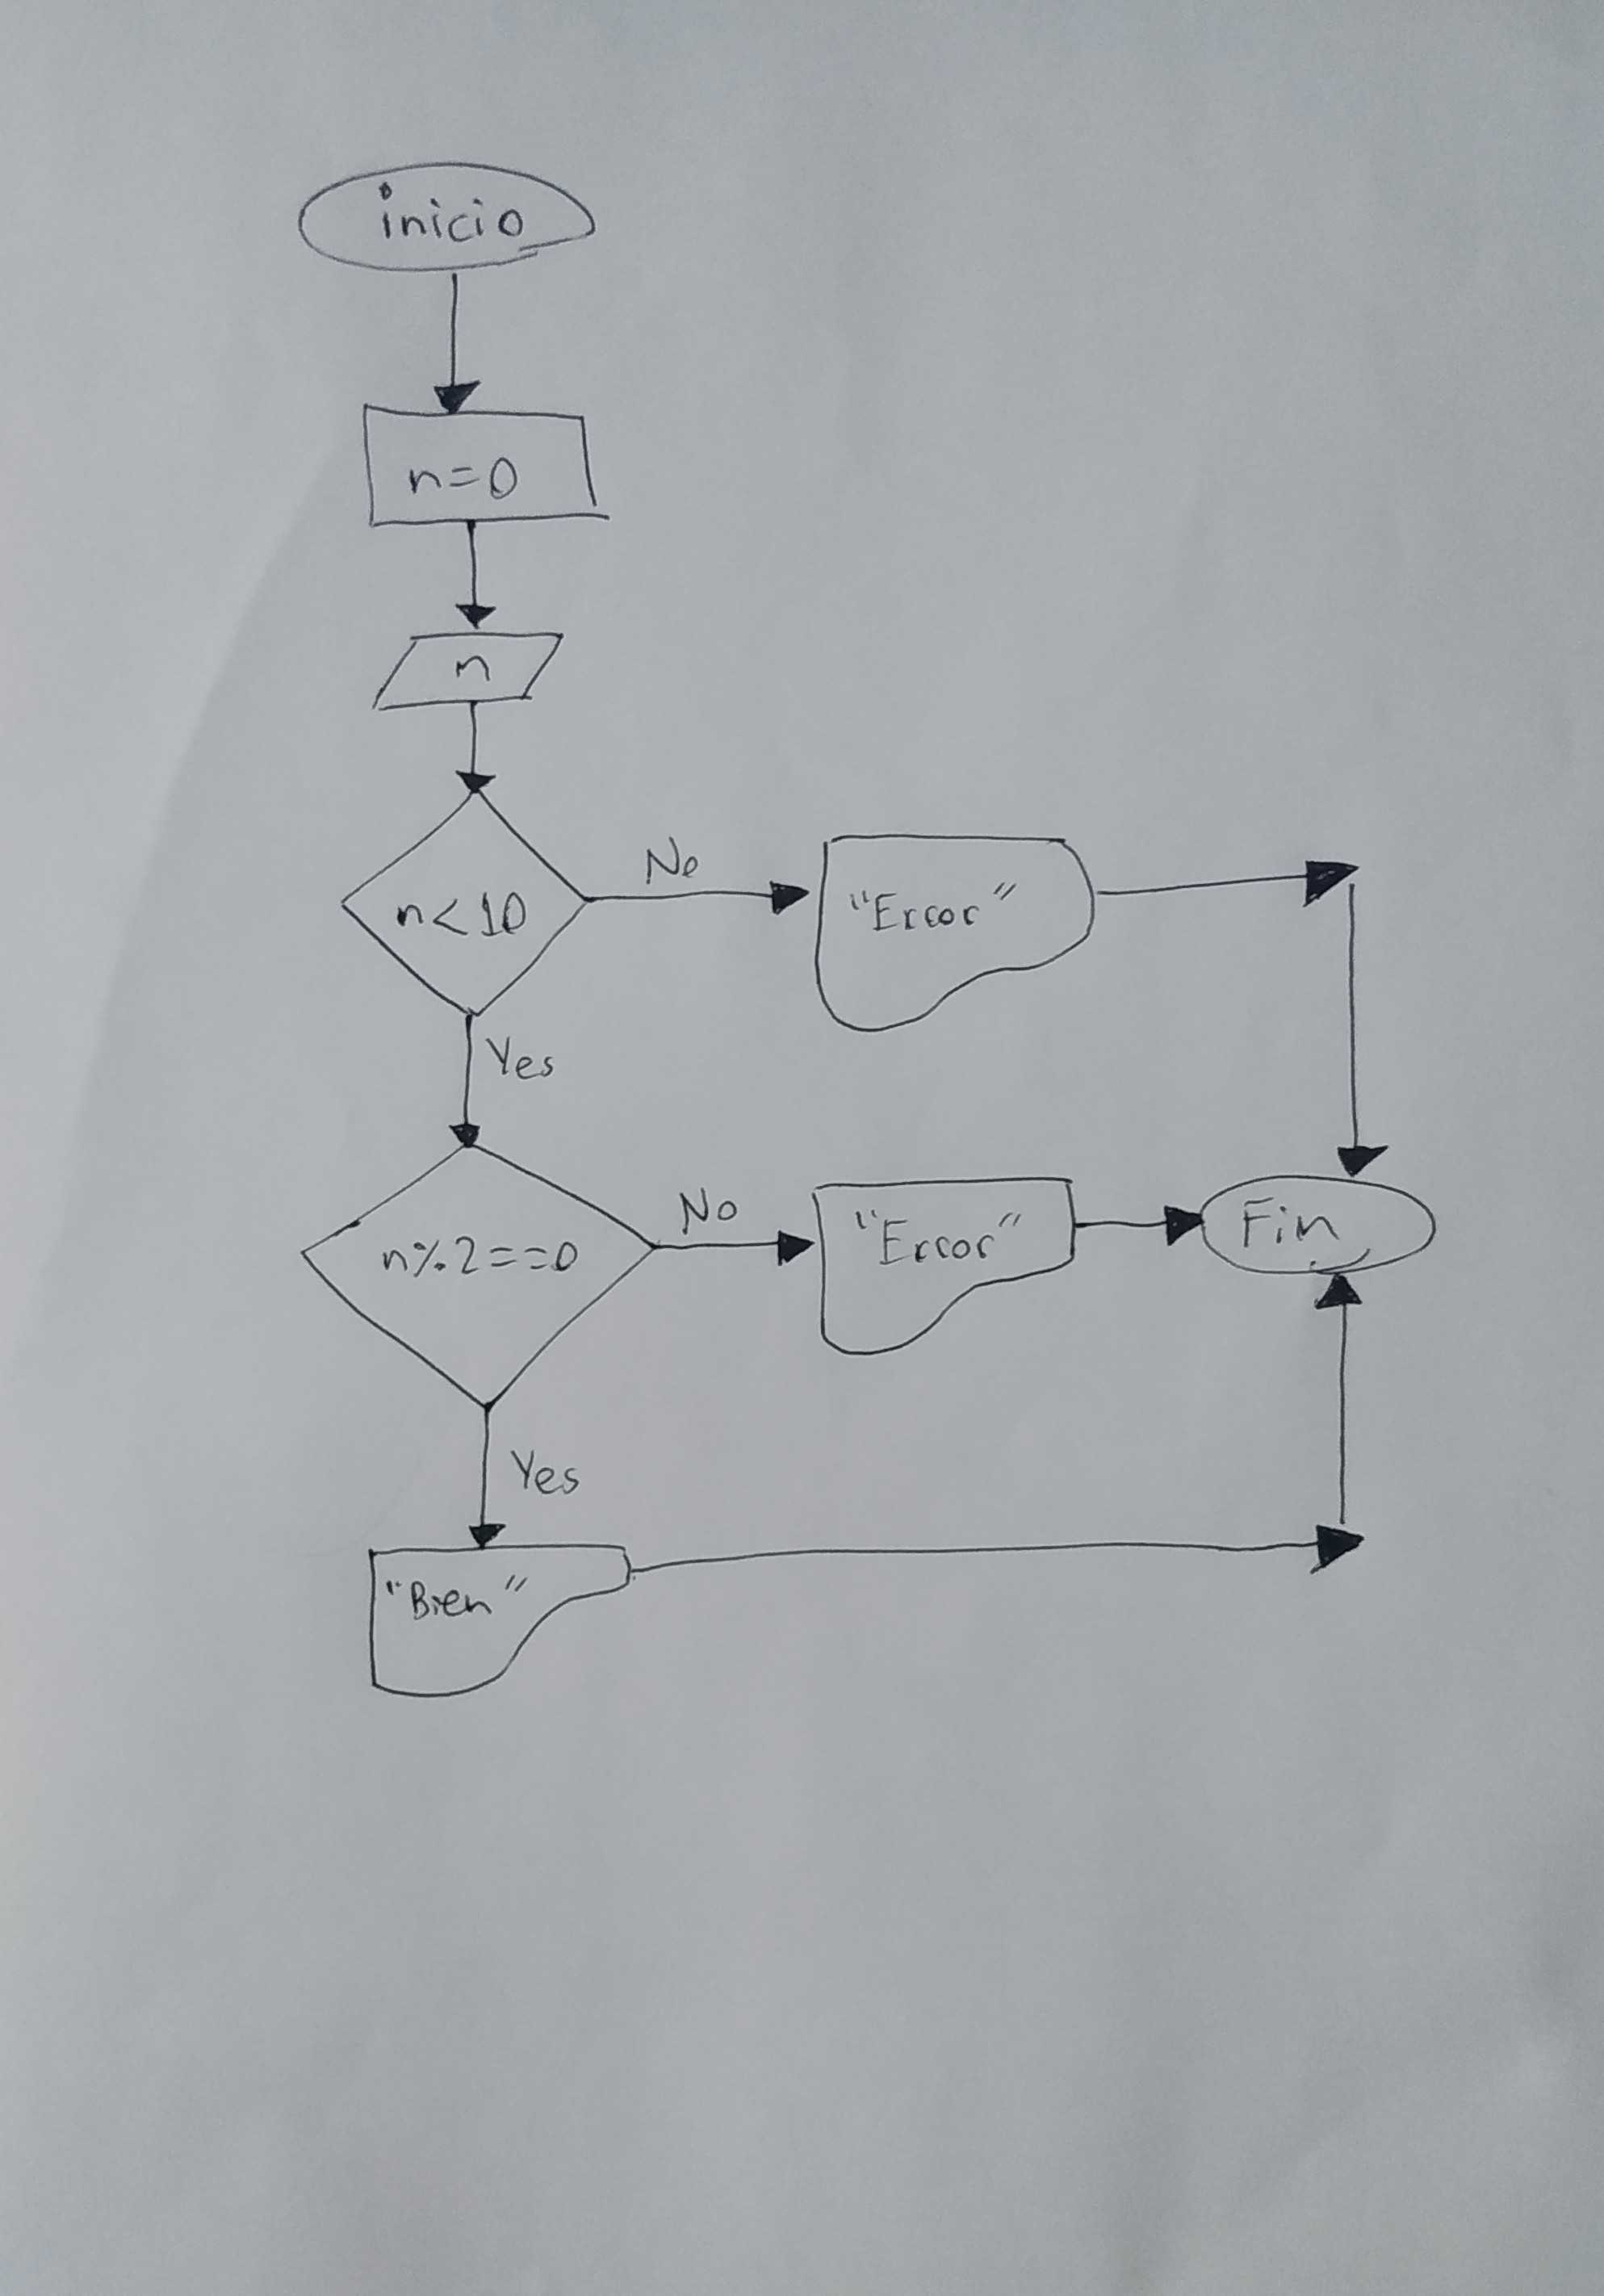arrow_line_down: (1328, 878, 1393, 1192), (429, 269, 485, 419), (463, 1403, 513, 1551), (445, 1005, 487, 1151), (452, 523, 499, 633), (456, 698, 497, 801)
arrow_line_right: (623, 1518, 1372, 1582), (1093, 853, 1356, 916), (586, 862, 817, 930), (646, 1220, 822, 1272), (1070, 1195, 1204, 1251)
arrow_line_up: (1311, 1267, 1370, 1530)
decision: (293, 1141, 663, 1411), (330, 783, 602, 1029)
print: (808, 818, 1110, 1043), (805, 1162, 1087, 1366), (356, 1534, 639, 1706)
process: (351, 396, 620, 530)
scan: (365, 623, 574, 717)
start_end: (286, 150, 602, 279), (1192, 1169, 1445, 1282)
